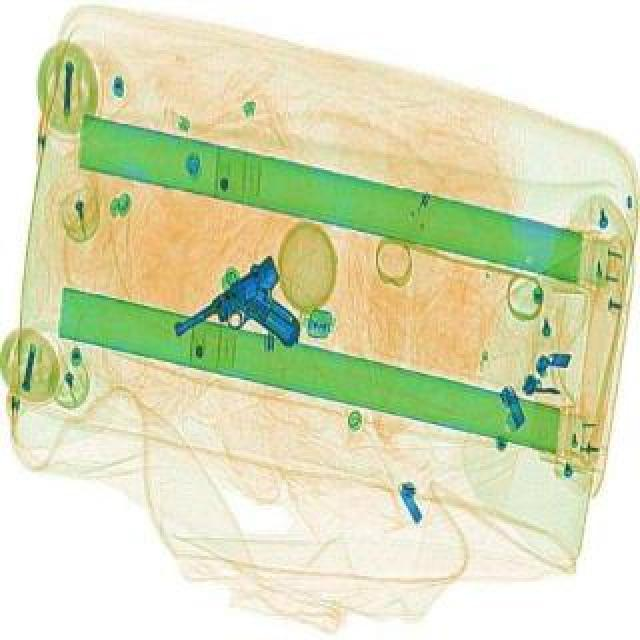gun: (164, 252, 324, 388)
